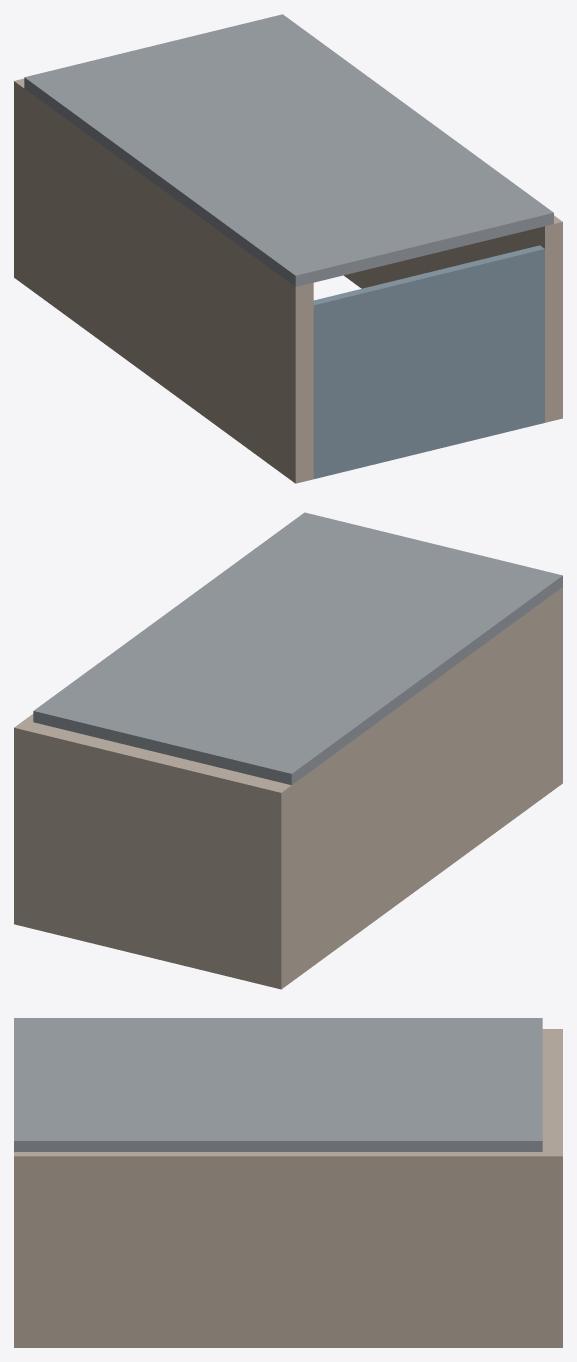
File: garage_closed.glb
3 views of the same model, one above another, from view 1: azimuth 30°, elevation 25°; view 2: azimuth 150°, elevation 25°; view 3: azimuth 270°, elevation 25° (orthographic). The views are drawn at different scales.
Visible parts, largest first — view 1: garage_closed; view 2: garage_closed; view 3: garage_closed.
Part boxes in pixels (left/top/right/bottom): garage_closed: left=14, top=14, right=562, bottom=483; garage_closed: left=14, top=512, right=562, bottom=989; garage_closed: left=14, top=1018, right=562, bottom=1347.
Size of the model in its own units: 3.7 by 2.75 by 6.75.
